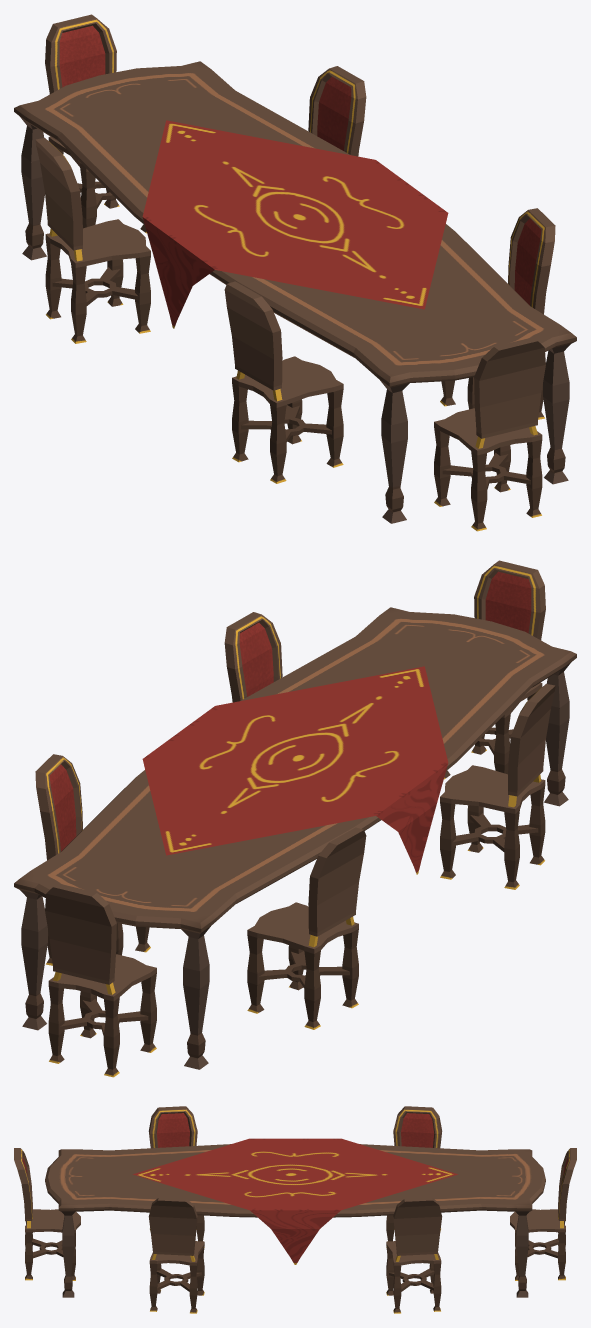
File: dinner_table (3).fbx
3 views of the same model, one above another, from view 1: azimuth 30°, elevation 25°; view 2: azimuth 150°, elevation 25°; view 3: azimuth 270°, elevation 25° (orthographic). The views are drawn at different scales.
Visible parts, largest first — view 1: Cube, Plane, Cube.002, Cube.001; view 2: Cube, Plane, Cube.002, Cube.001; view 3: Cube, Plane, Cube.002, Cube.001.
Boxes of the visible parts, x1=… form: Cube: x1=14, y1=61, x2=576, y2=523; Plane: x1=142, y1=120, x2=448, y2=328; Cube.002: x1=35, y1=66, x2=555, y2=483; Cube.001: x1=45, y1=14, x2=545, y2=531; Cube: x1=14, y1=607, x2=576, y2=1069; Plane: x1=142, y1=666, x2=448, y2=874; Cube.002: x1=35, y1=612, x2=555, y2=1029; Cube.001: x1=45, y1=560, x2=545, y2=1077; Cube: x1=45, y1=1144, x2=545, y2=1297; Plane: x1=133, y1=1138, x2=457, y2=1264; Cube.002: x1=148, y1=1106, x2=442, y2=1313; Cube.001: x1=14, y1=1148, x2=576, y2=1280.
Size of the model in its own units: 737 by 418 by 1833.
